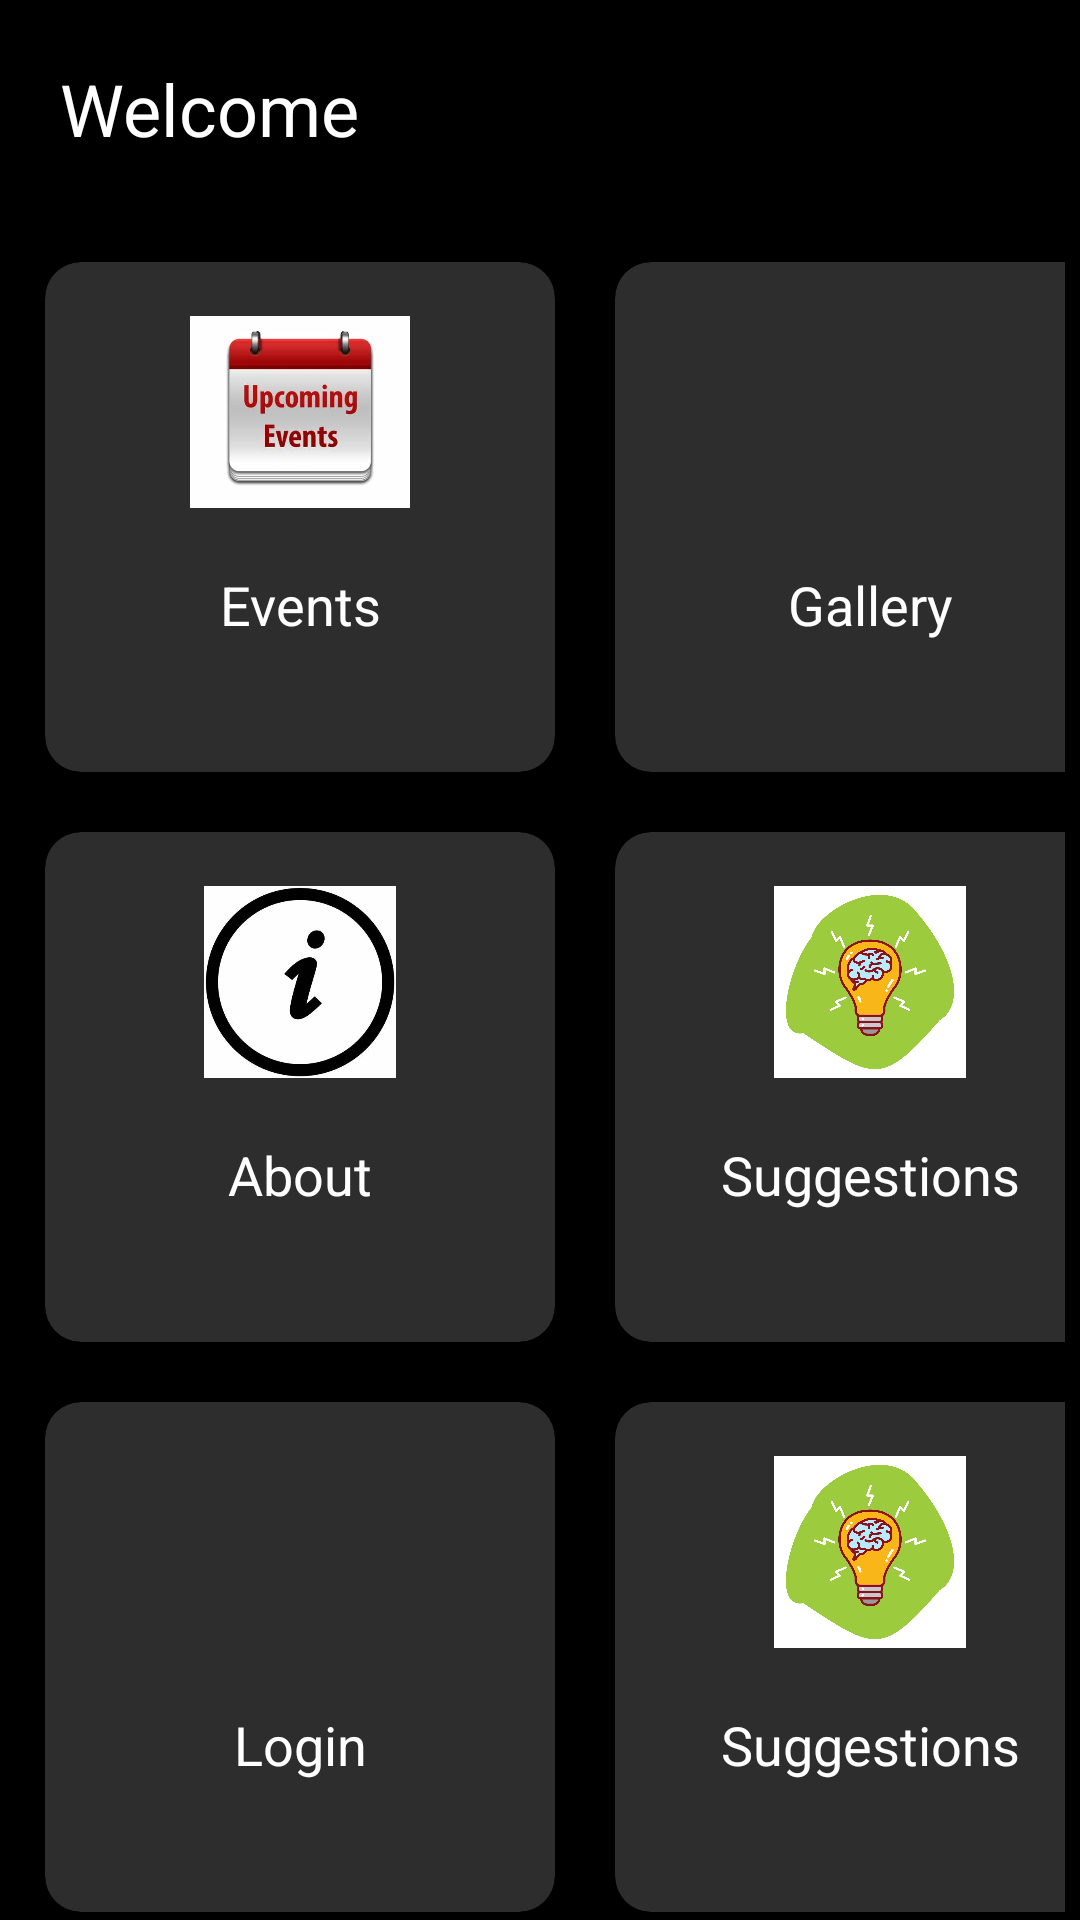

Screen size 1080x1920. Icon name, then its center in pixels as point (x, y):
info: point (300, 982)
